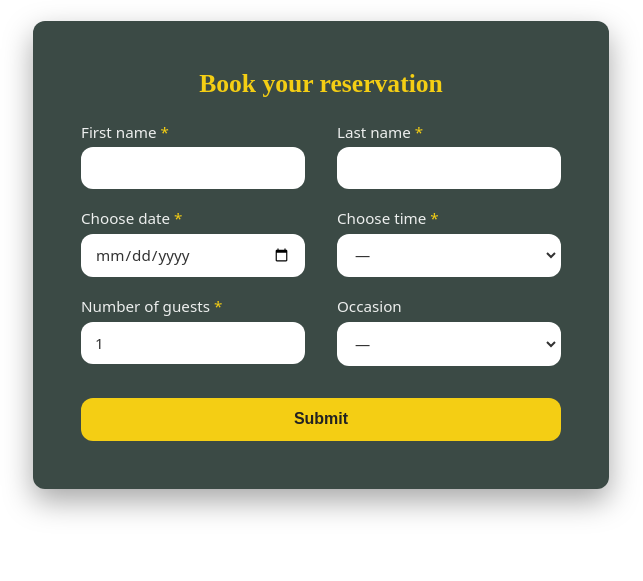
Reservation page › shows validation errors only after submit
This screenshot has width=643, height=581.
What coordinates should you click on to do the following:
click the button "Submit"
I would click on:
 (321, 419)
Its box is [81, 398, 561, 441].
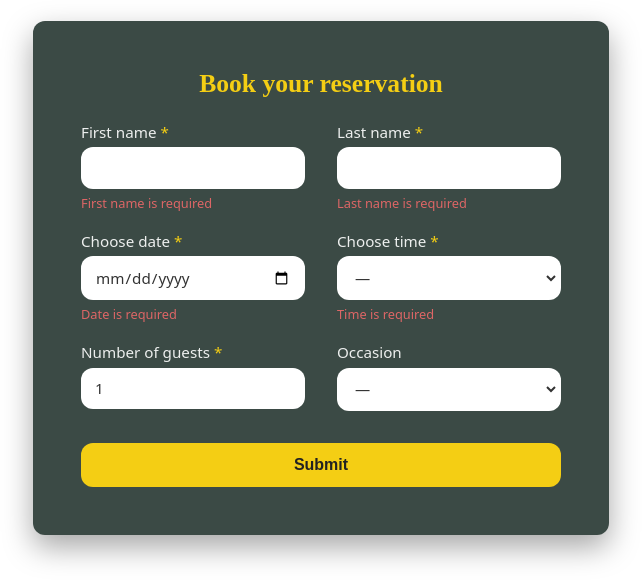
Result: the text "First name is required" is shown at [81, 194, 212, 212]
Result: the text "Last name is required" is shown at [337, 194, 467, 212]
Result: the text "Date is required" is shown at [81, 305, 177, 323]
